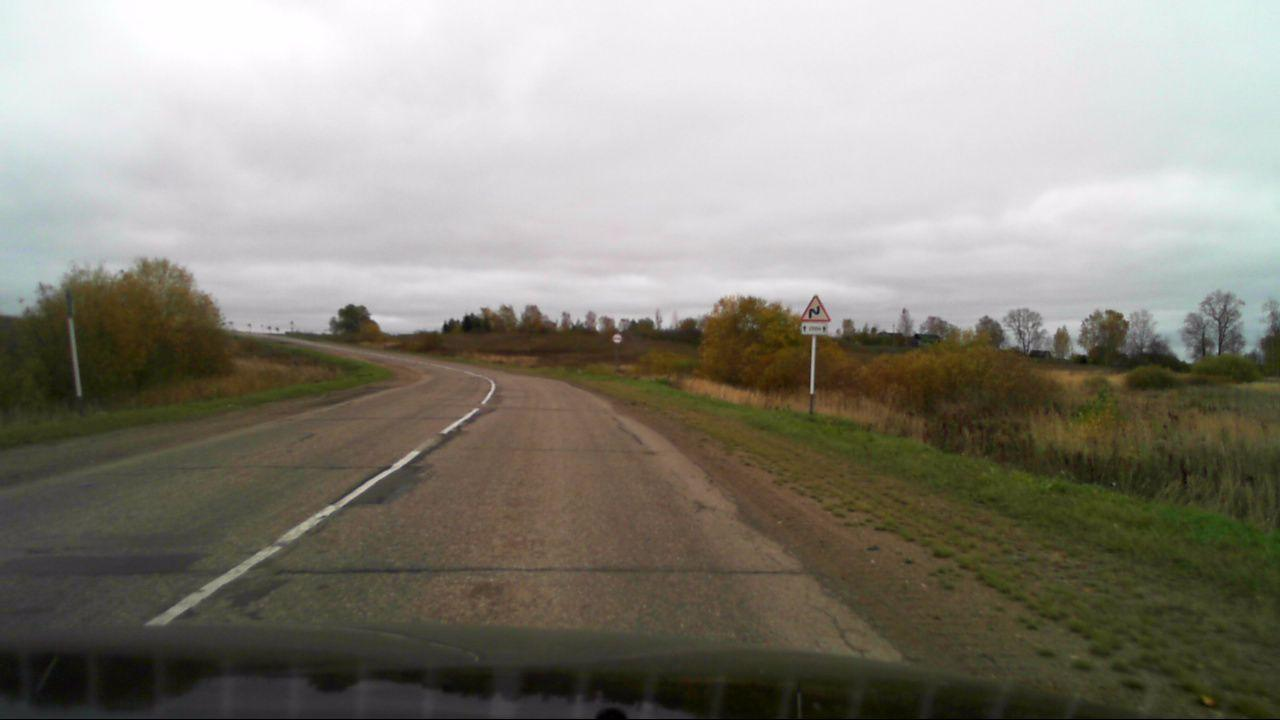road_sign: (800, 295, 831, 322), (801, 323, 829, 335)
